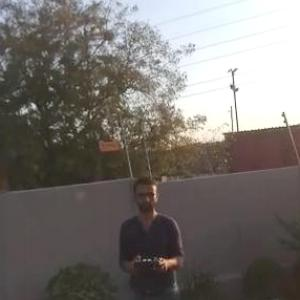follow: (115, 170, 190, 299)
